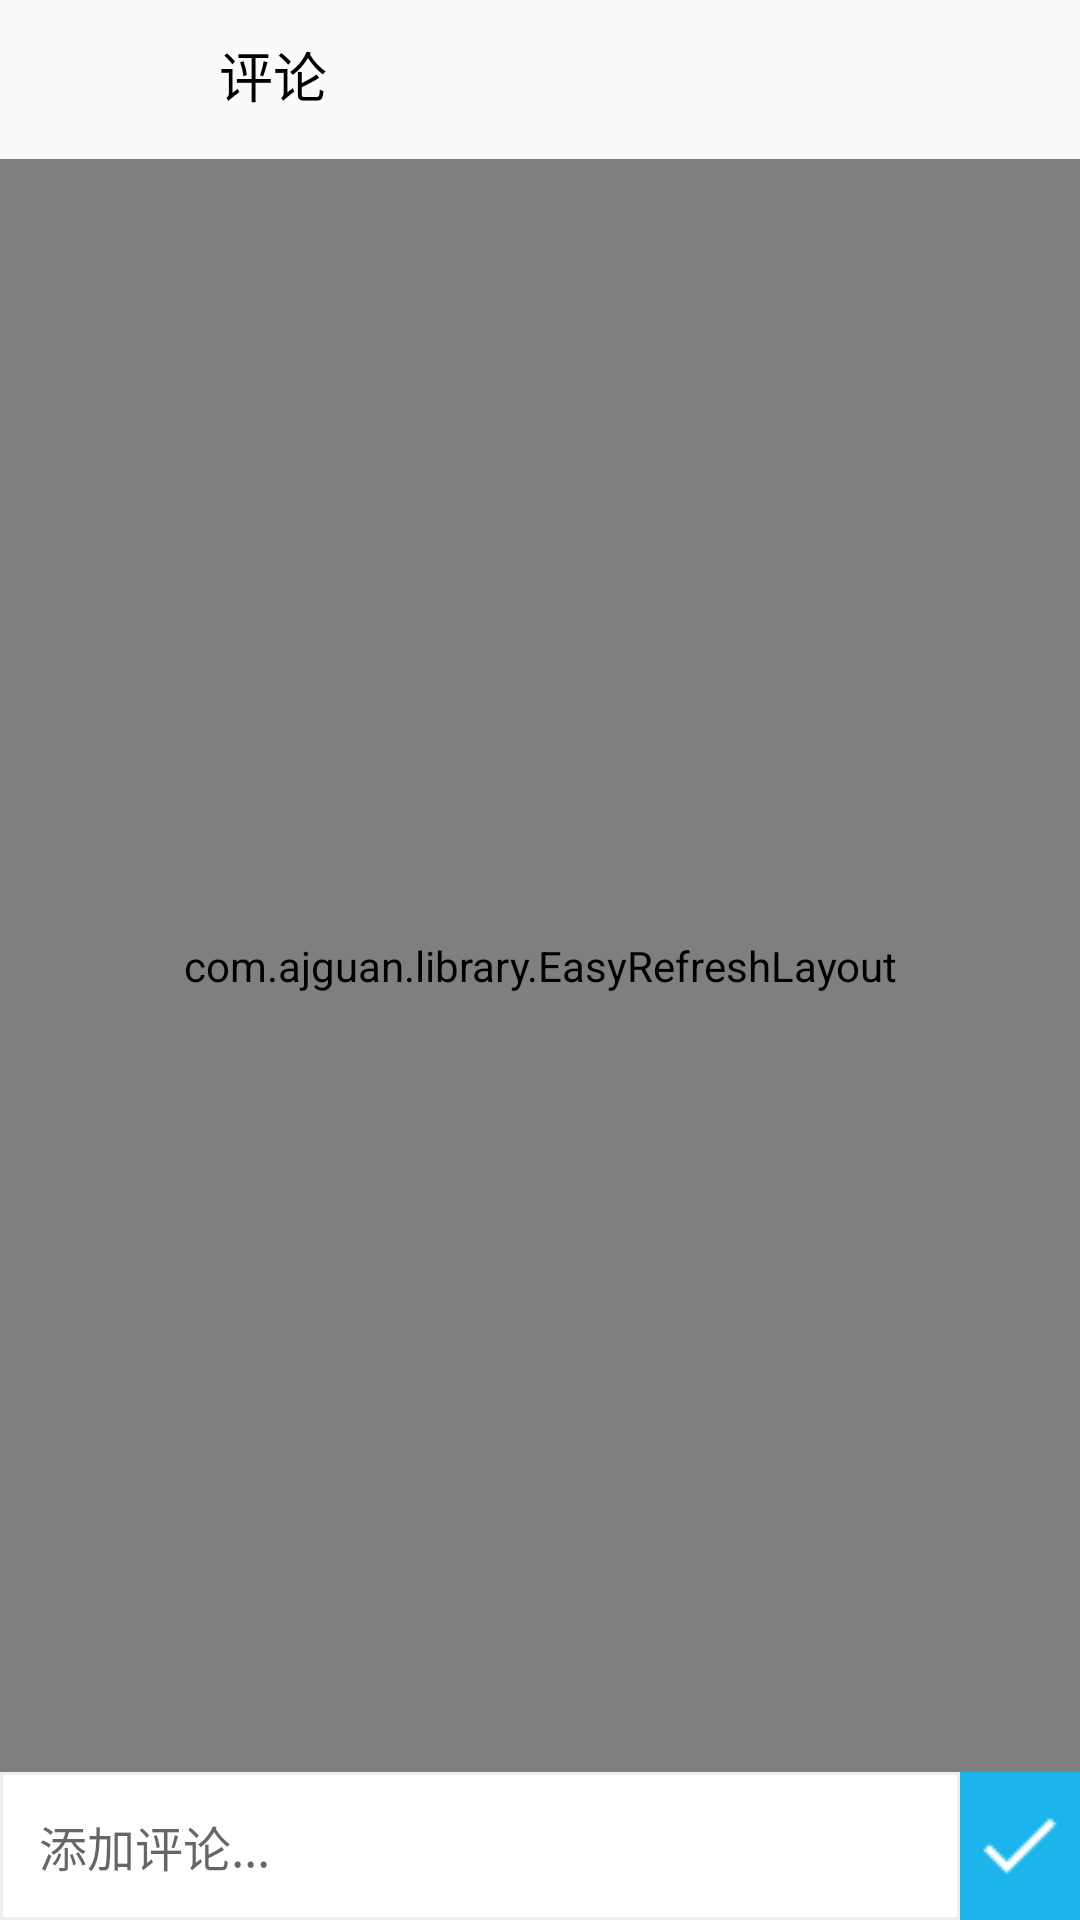

Named icons in this screenshot (1080w x 1920h) and their centers, (x=x, y=y):
finish: (x=1020, y=1846)
